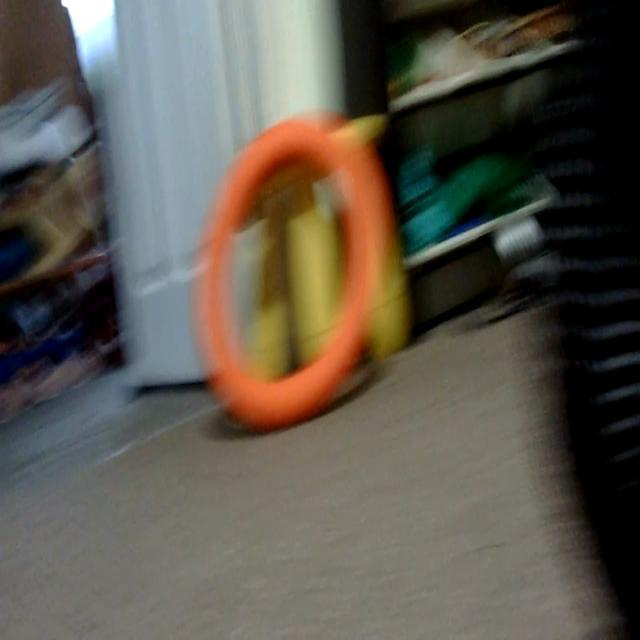note: (196, 117, 389, 436)
